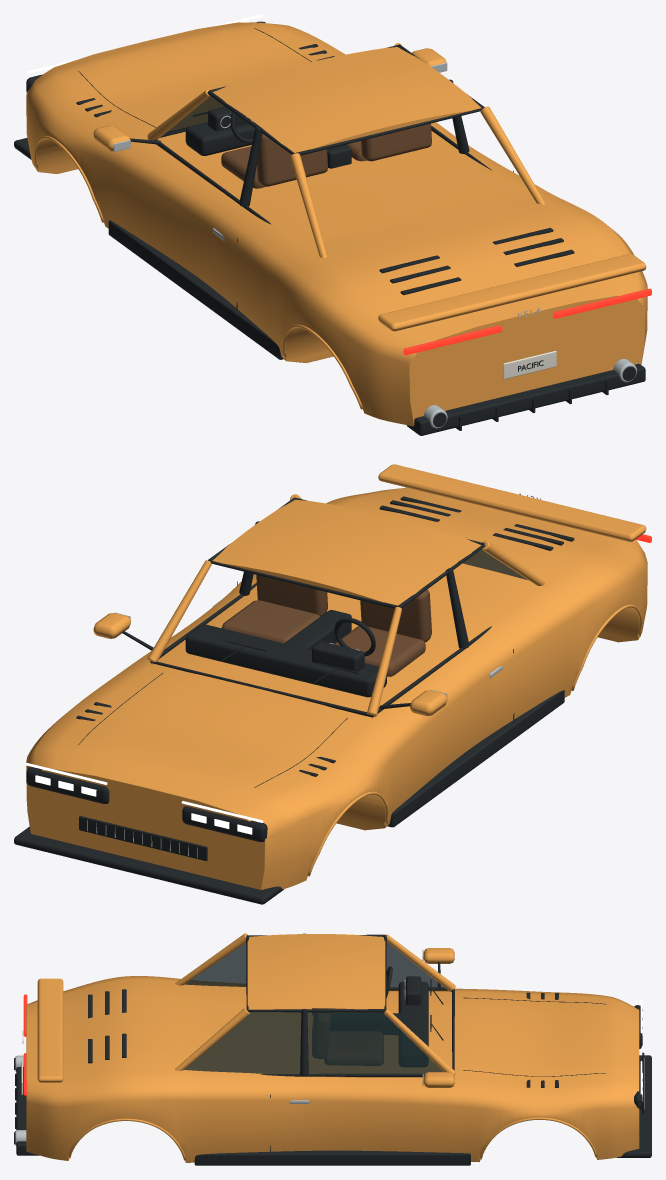
File: vela-gt.glb
The picture shows the model from 3 angles, top to bottom: view 1: azimuth 30°, elevation 25°; view 2: azimuth 150°, elevation 25°; view 3: azimuth 270°, elevation 25°; orthographic projection. The views are drawn at different scales.
Parts seen in each view (by area): view 1: Vela coachwork, Graphite aero, Saddle interior, Ruby LED, Brushed alloy, Porcelain lettering, Smoked blue glazing; view 2: Vela coachwork, Graphite aero, Saddle interior, Ivory LED, Smoked blue glazing; view 3: Vela coachwork, Smoked blue glazing, Graphite aero, Saddle interior, Brushed alloy, Ruby LED.
Part boxes in pixels (x1=…): Vela coachwork: x1=26, y1=22, x2=647, y2=426; Graphite aero: x1=14, y1=21, x2=645, y2=435; Saddle interior: x1=221, y1=123, x2=431, y2=188; Ruby LED: x1=403, y1=288, x2=651, y2=355; Brushed alloy: x1=114, y1=62, x2=636, y2=428; Porcelain lettering: x1=503, y1=350, x2=556, y2=379; Smoked blue glazing: x1=164, y1=96, x2=224, y2=134; Vela coachwork: x1=26, y1=464, x2=647, y2=889; Graphite aero: x1=14, y1=496, x2=574, y2=904; Saddle interior: x1=221, y1=575, x2=431, y2=676; Ivory LED: x1=26, y1=763, x2=263, y2=834; Smoked blue glazing: x1=458, y1=549, x2=528, y2=580; Vela coachwork: x1=26, y1=933, x2=639, y2=1162; Smoked blue glazing: x1=184, y1=942, x2=444, y2=1073; Graphite aero: x1=14, y1=933, x2=651, y2=1165; Saddle interior: x1=312, y1=1008, x2=383, y2=1065; Brushed alloy: x1=15, y1=950, x2=644, y2=1145; Ruby LED: x1=23, y1=994, x2=27, y2=1095.
Bounding box in the file's own units: 2.22 × 1.15 × 4.5.
